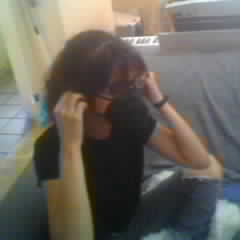with_mask: (93, 66, 145, 125)
